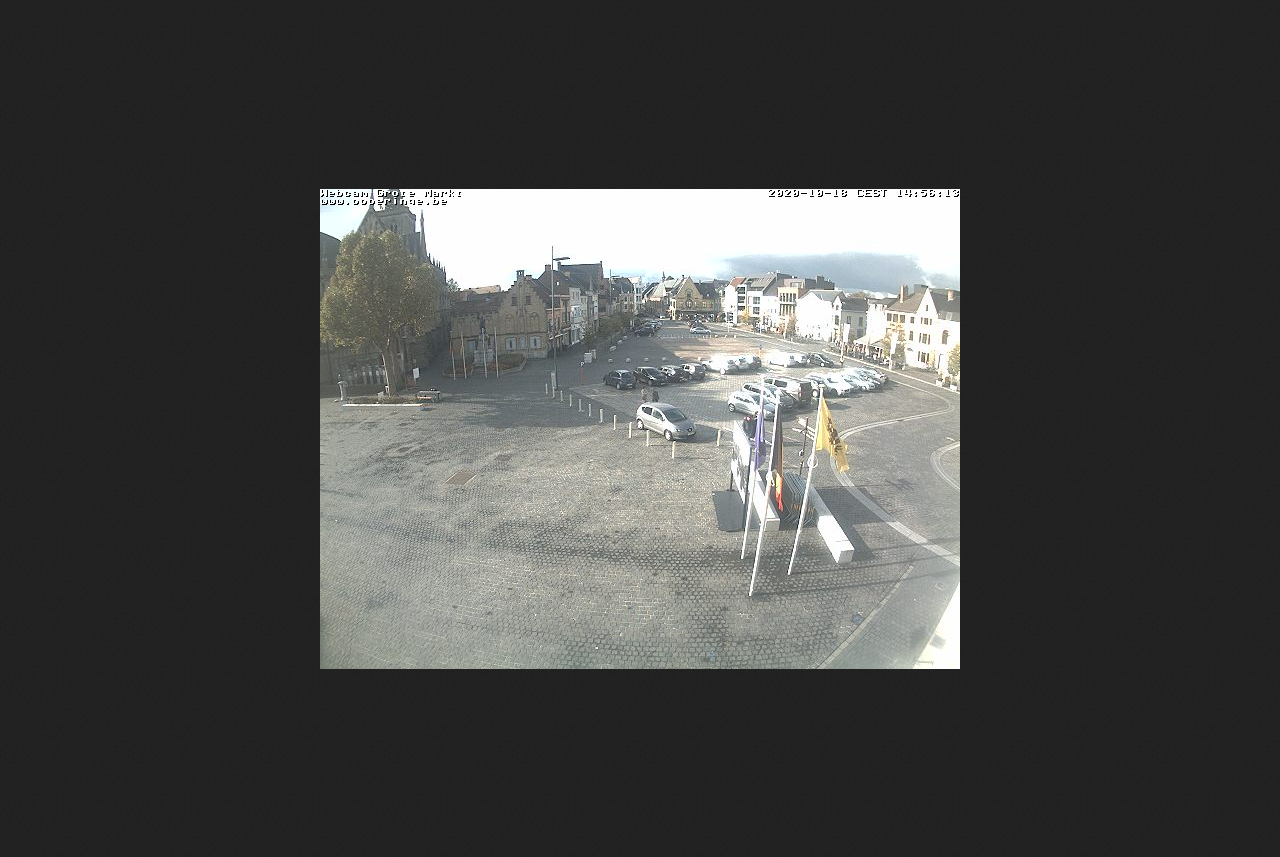maybe: (813, 381, 851, 475)
no: (771, 399, 784, 516), (751, 389, 768, 478), (447, 333, 456, 360), (457, 335, 467, 355), (481, 332, 488, 356), (491, 335, 499, 353)
